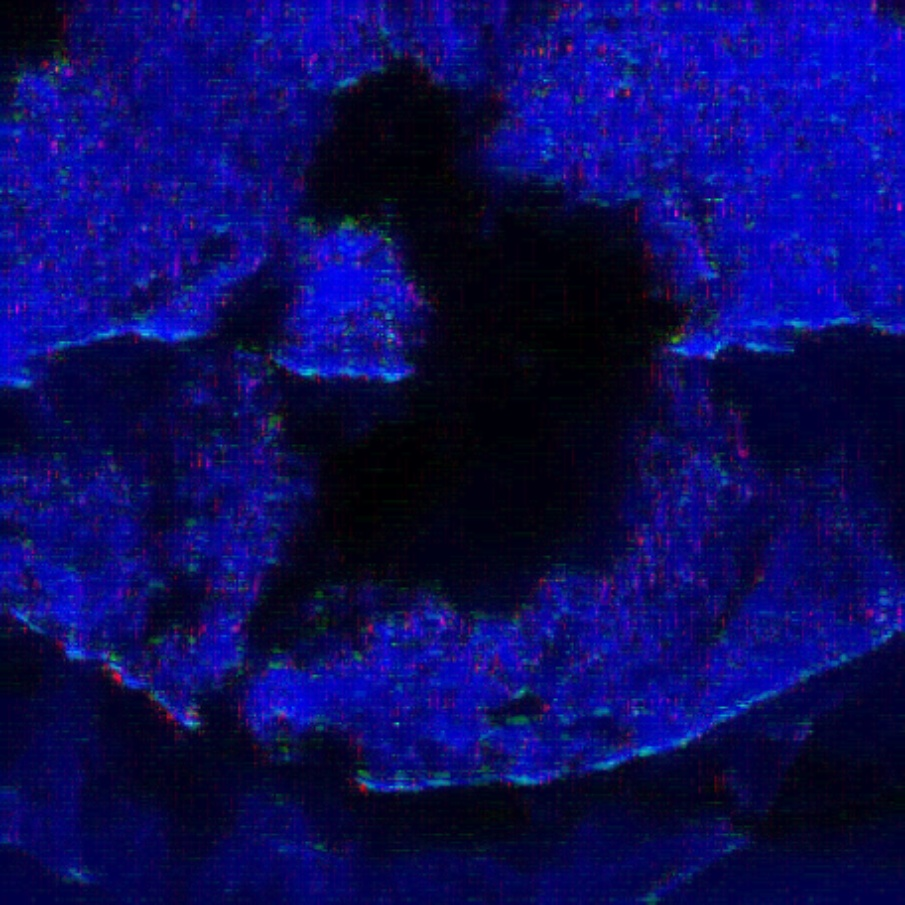rip_current: (205, 31, 721, 728)
